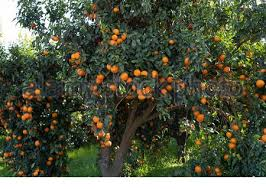orange: (133, 68, 142, 77), (112, 63, 119, 73)
